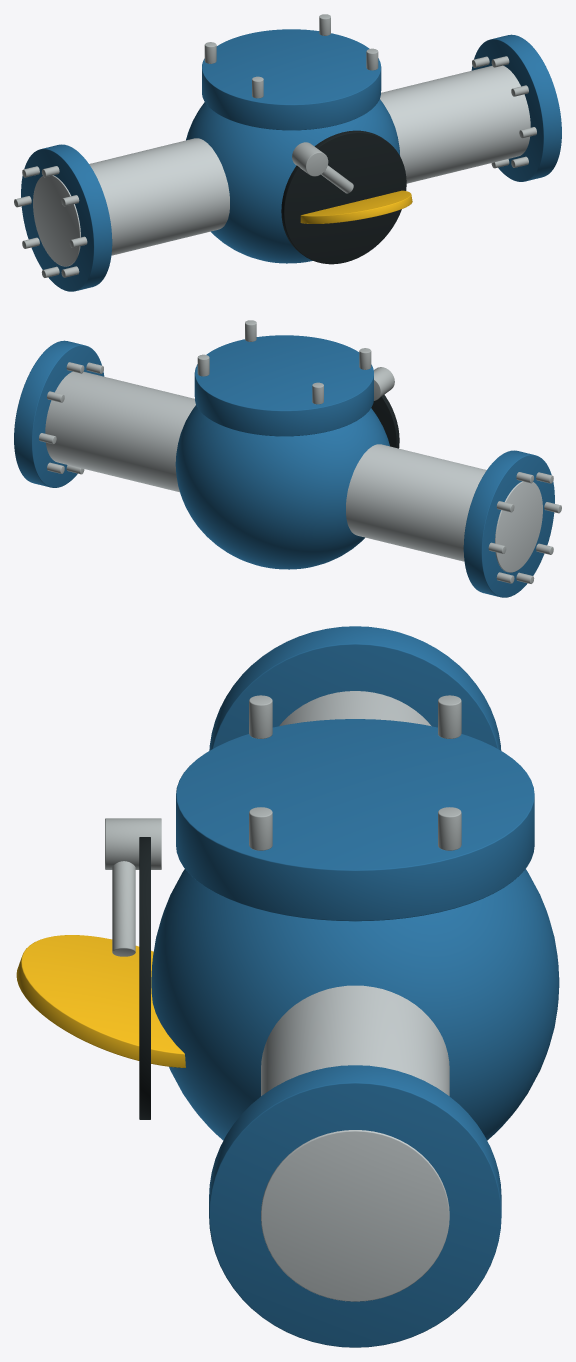
Rendered from swing_check_valve.glb.
3 renders of one model, top to bottom at view 1: azimuth 30°, elevation 25°; view 2: azimuth 150°, elevation 25°; view 3: azimuth 270°, elevation 25°, orthographic. The views are drawn at different scales.
Visible parts, largest first — view 1: PIPE, BOLTED_COVER, SWING_CHECK_BODY, INSPECTION_WINDOW, FLANGE_IN, FLANGE_OUT, SWING_DISC, HINGE_PIN, SWING_ARM; view 2: PIPE, SWING_CHECK_BODY, BOLTED_COVER, FLANGE_IN, FLANGE_OUT, INSPECTION_WINDOW, HINGE_PIN; view 3: SWING_CHECK_BODY, BOLTED_COVER, PIPE, FLANGE_OUT, FLANGE_IN, SWING_DISC, INSPECTION_WINDOW, HINGE_PIN, SWING_ARM, COVER_BOLT_-0.28_0.2, COVER_BOLT_0.28_0.2, COVER_BOLT_0.28_-0.2 (+1 smaller).
Boxes of the visible parts, x1,y1,x2,y2 form: PIPE: (33, 65, 530, 266); BOLTED_COVER: (202, 29, 381, 130); SWING_CHECK_BODY: (186, 99, 399, 263); INSPECTION_WINDOW: (281, 130, 406, 264); FLANGE_IN: (21, 144, 112, 291); FLANGE_OUT: (471, 34, 561, 181); SWING_DISC: (300, 190, 412, 223); HINGE_PIN: (292, 142, 328, 176); SWING_ARM: (321, 165, 353, 193); PIPE: (45, 371, 542, 572); SWING_CHECK_BODY: (175, 405, 389, 569); BOLTED_COVER: (194, 335, 373, 436); FLANGE_IN: (463, 450, 554, 597); FLANGE_OUT: (14, 340, 104, 487); INSPECTION_WINDOW: (371, 394, 399, 448); HINGE_PIN: (374, 367, 394, 400); SWING_CHECK_BODY: (151, 869, 559, 1140); BOLTED_COVER: (176, 719, 534, 921); PIPE: (261, 691, 449, 1301); FLANGE_OUT: (209, 1065, 501, 1347); FLANGE_IN: (209, 626, 501, 750); SWING_DISC: (16, 935, 185, 1067); INSPECTION_WINDOW: (139, 837, 150, 1119); HINGE_PIN: (105, 818, 161, 869); SWING_ARM: (112, 861, 135, 956); COVER_BOLT_-0.28_0.2: (438, 695, 461, 738); COVER_BOLT_0.28_0.2: (438, 807, 461, 850); COVER_BOLT_0.28_-0.2: (249, 807, 272, 850).
Bounding box in the file's own units: 2.36 × 0.9624 × 1.15.
